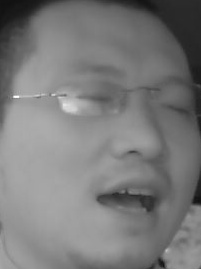glass: (55, 78, 129, 121)
mouth: (97, 175, 167, 222)
